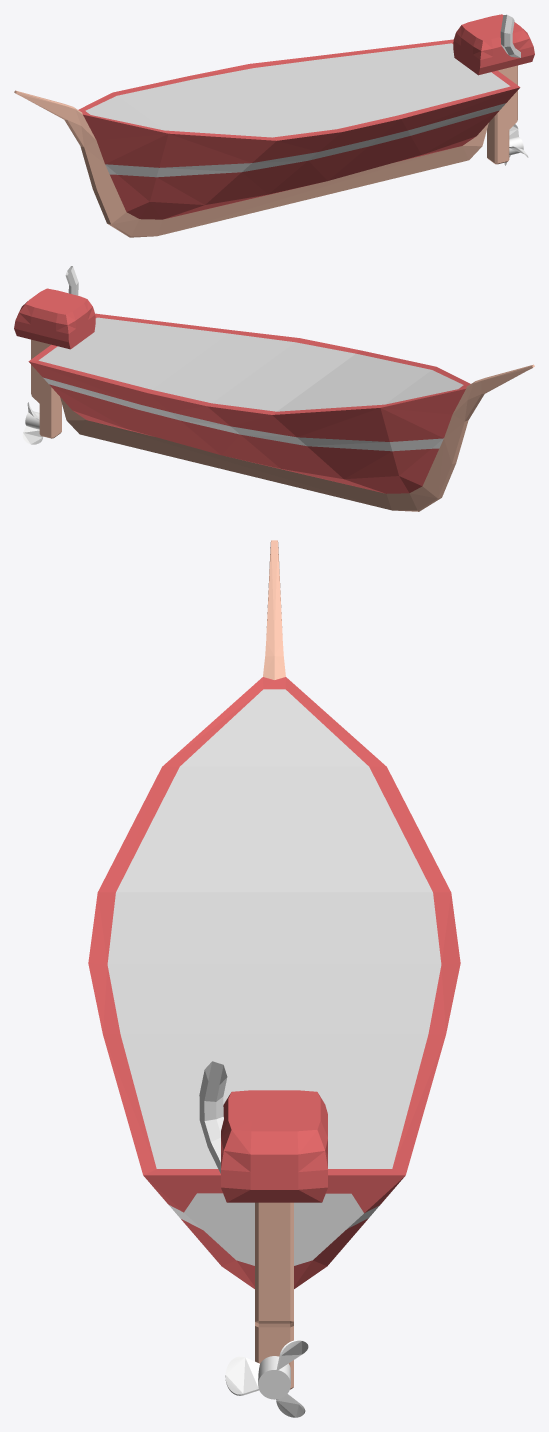
Rendered from Boat.fbx.
The picture shows the model from 3 angles, top to bottom: view 1: azimuth 30°, elevation 25°; view 2: azimuth 150°, elevation 25°; view 3: azimuth 270°, elevation 25°; orthographic projection. The views are drawn at different scales.
Visible parts, largest first — view 1: Boat, Boat.001, Cube, Cube.001, Torus, Fan; view 2: Boat, Boat.001, Cube, Cube.001, Fan; view 3: Boat.001, Boat, Cube, Cube.001, Fan, Torus.
Boxes of the visible parts, box(x1,y1,x2,y2) form: Boat: box(14, 39, 520, 237); Boat.001: box(85, 43, 510, 137); Cube: box(453, 14, 534, 75); Cube.001: box(487, 65, 517, 164); Torus: box(500, 14, 520, 57); Fan: box(504, 124, 528, 165); Boat: box(28, 313, 534, 511); Boat.001: box(38, 317, 463, 411); Cube: box(14, 288, 95, 349); Cube.001: box(31, 339, 61, 438); Fan: box(22, 402, 42, 444); Boat.001: box(107, 689, 441, 1168); Boat: box(88, 540, 460, 1288); Cube: box(221, 1090, 327, 1202); Cube.001: box(255, 1202, 293, 1389); Fan: box(225, 1340, 308, 1417); Torus: box(199, 1061, 227, 1173).
Size of the model in its own units: 3.59 by 1.33 by 1.14.
